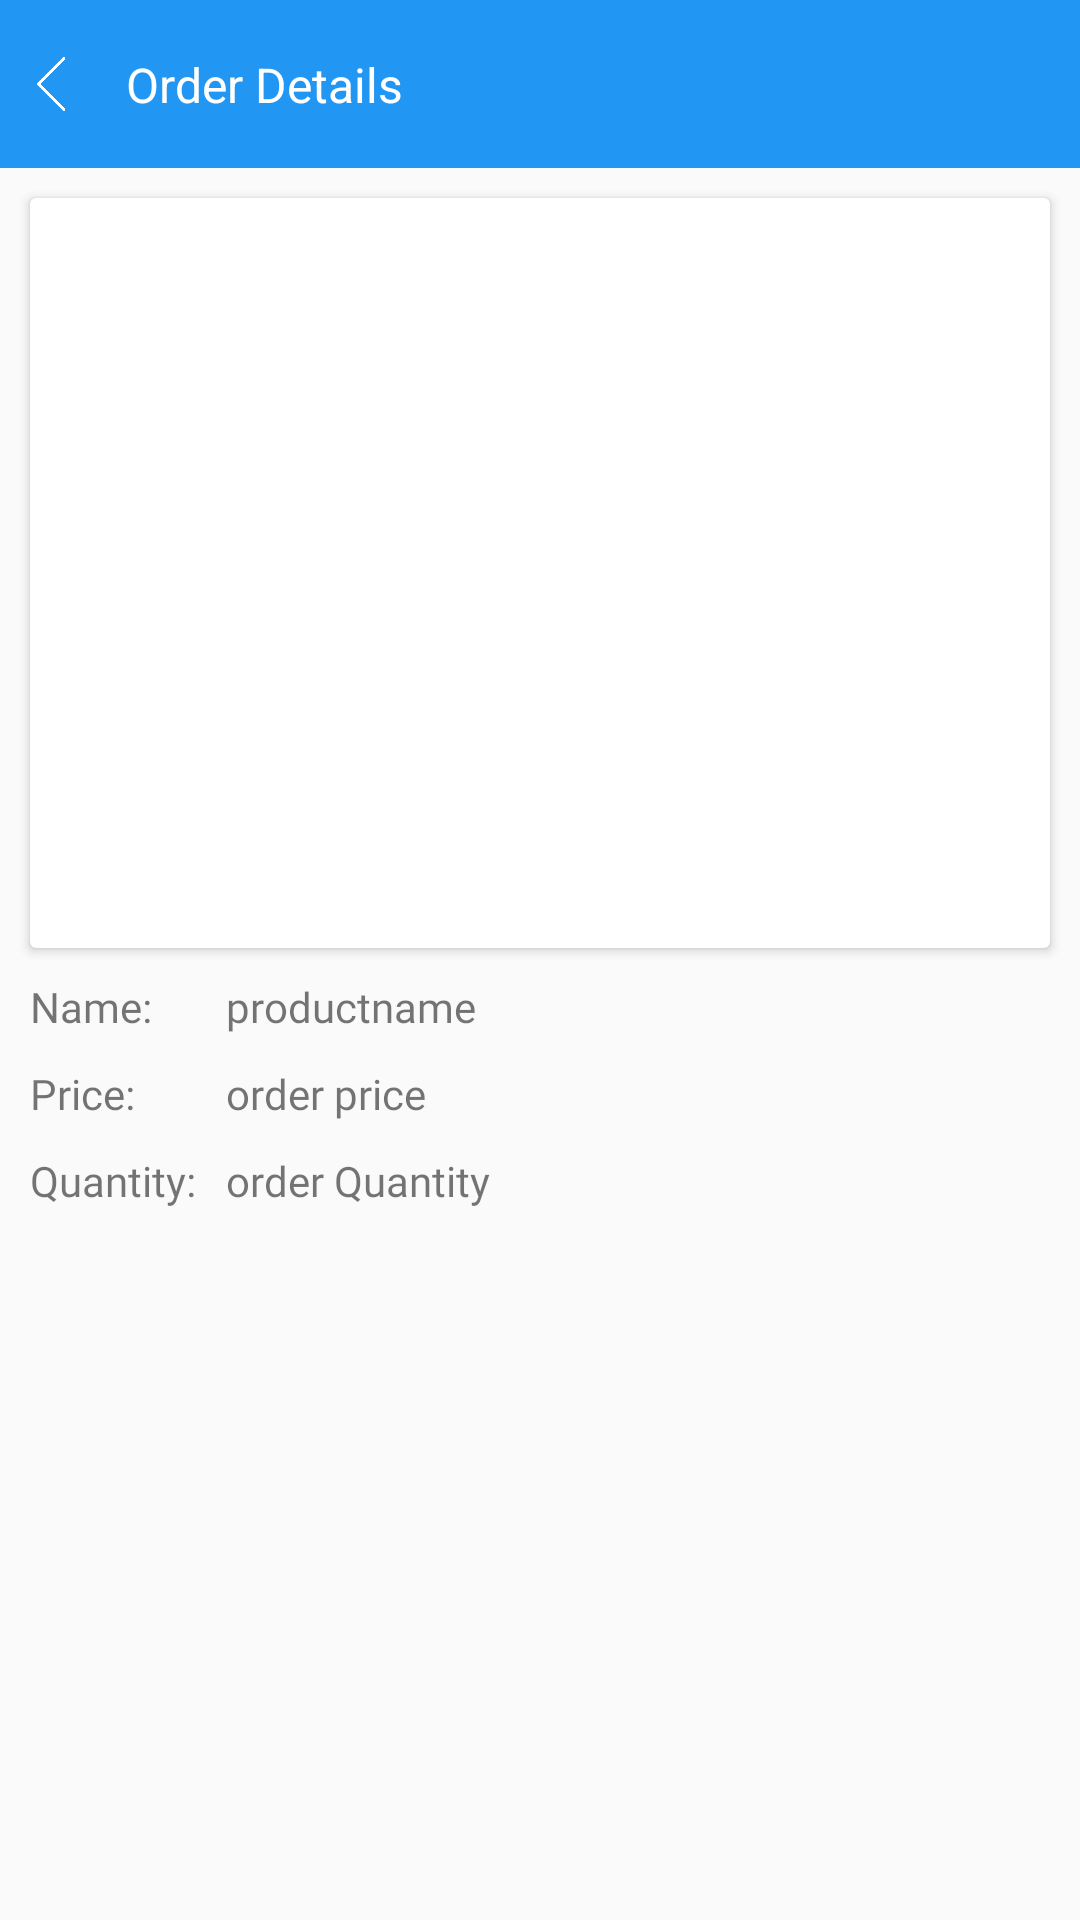

Icon click points for this 1080 x 1920 phone screenshot, format point (x, y):
back: point (51, 84)
